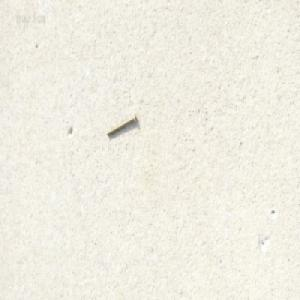Bolt: (105, 112, 136, 137)
